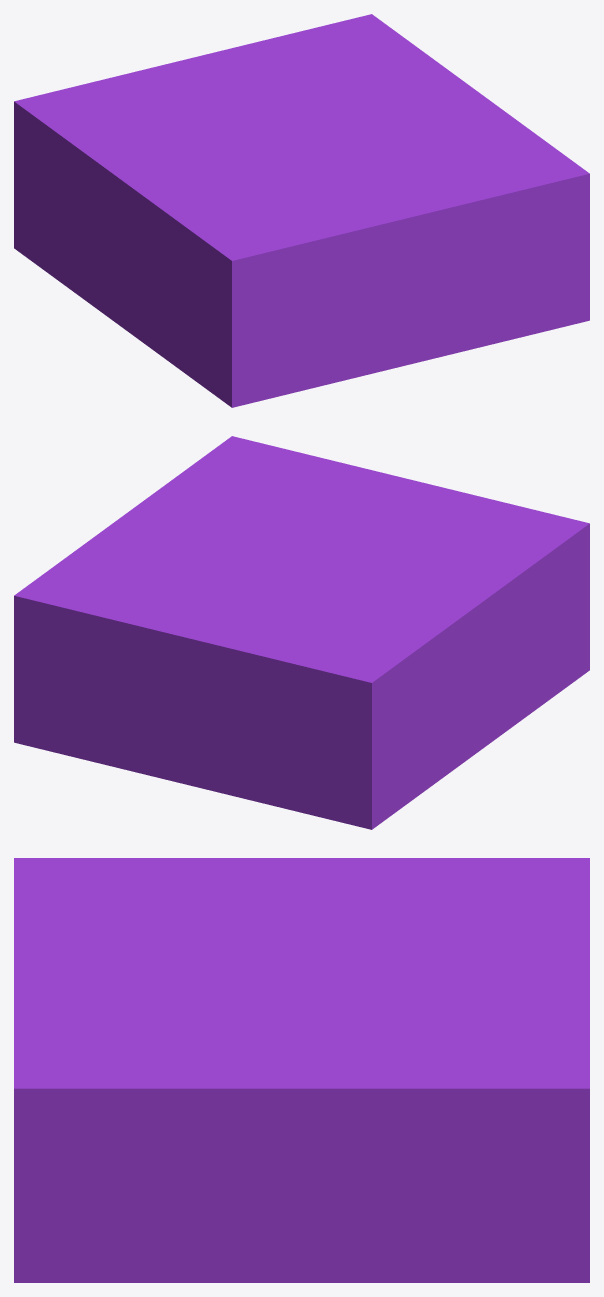
The model's file is ExhibitGlass.fbx.
3 renders of one model, top to bottom at view 1: azimuth 30°, elevation 25°; view 2: azimuth 150°, elevation 25°; view 3: azimuth 270°, elevation 25°, orthographic. The views are drawn at different scales.
Parts seen in each view (by area): view 1: ExhibitGlass; view 2: ExhibitGlass; view 3: ExhibitGlass.
Part boxes in pixels (x1,y1,x2,y2): ExhibitGlass: [14, 14, 589, 407]; ExhibitGlass: [14, 436, 589, 829]; ExhibitGlass: [14, 858, 589, 1282].
Size of the model in its own units: 681 by 267 by 719.
